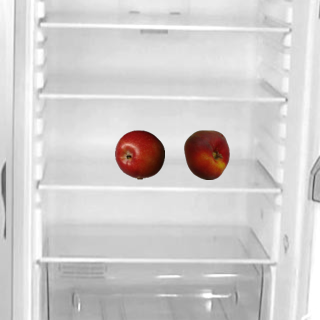Apple Braeburn: (114, 129, 164, 179)
Nectarine Flat: (181, 129, 231, 179)
